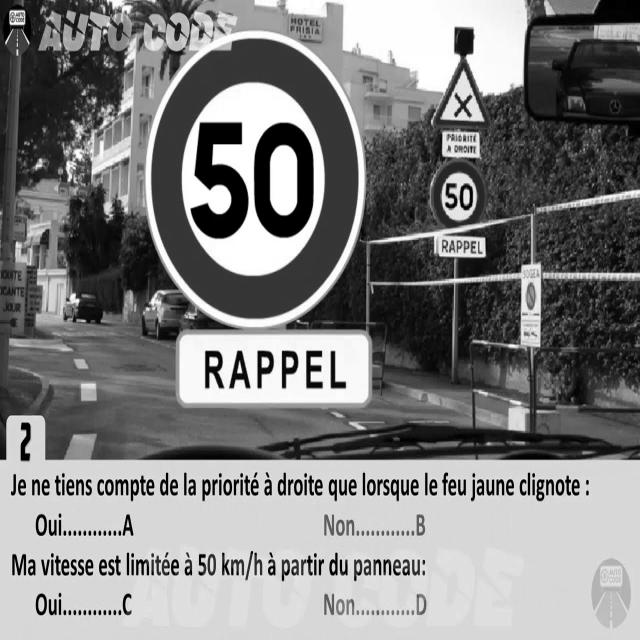danger: (431, 59, 494, 132)
speed_50: (146, 24, 368, 323), (430, 158, 488, 233)
